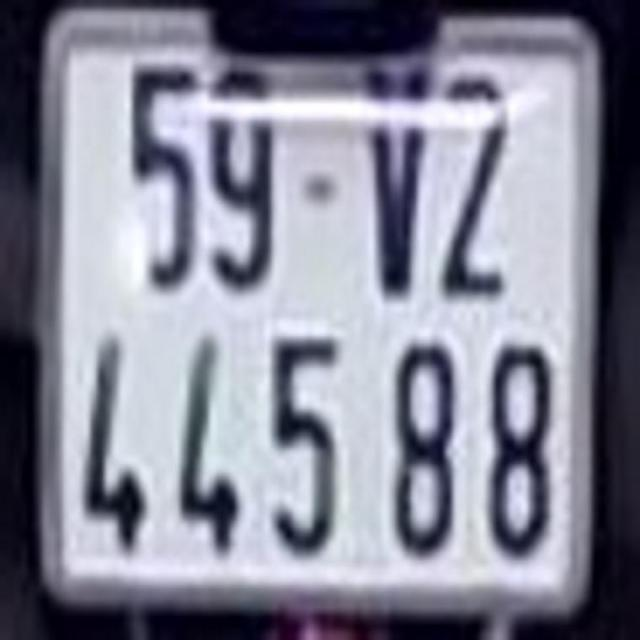2: (440, 75, 508, 292)
4: (177, 332, 247, 564), (81, 338, 156, 551)
5: (261, 333, 347, 550), (129, 63, 203, 288)
8: (476, 337, 554, 561), (398, 338, 453, 562)
9: (208, 67, 275, 288)
V: (367, 72, 430, 303)
